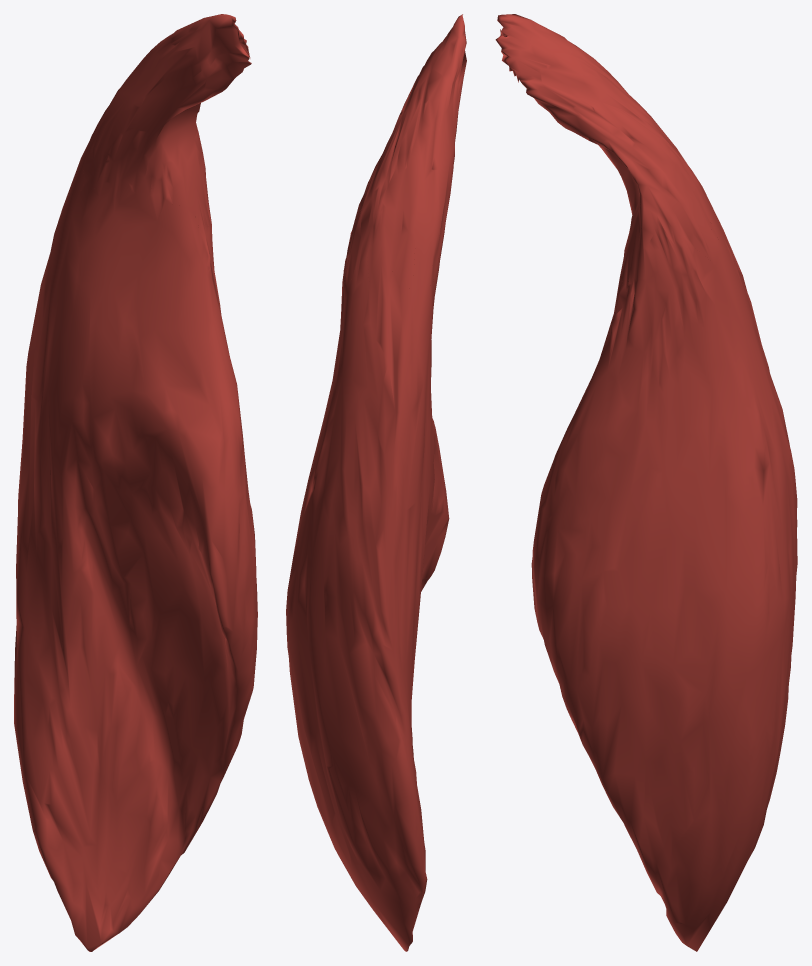
File: musculos-medial-head-of-gastrocnemius-r.glb
The picture shows the model from 3 angles, left to right: view 1: azimuth 30°, elevation 25°; view 2: azimuth 150°, elevation 25°; view 3: azimuth 270°, elevation 25°; orthographic projection. The views are drawn at different scales.
Parts seen in each view (by area): view 1: Medial head of gastrocnemius.r; view 2: Medial head of gastrocnemius.r; view 3: Medial head of gastrocnemius.r.
Part boxes in pixels (x1=…): Medial head of gastrocnemius.r: x1=14, y1=14, x2=257, y2=951; Medial head of gastrocnemius.r: x1=286, y1=14, x2=466, y2=951; Medial head of gastrocnemius.r: x1=495, y1=14, x2=797, y2=951.
Bounding box in the file's own units: 0.0511 × 0.2995 × 0.086.
